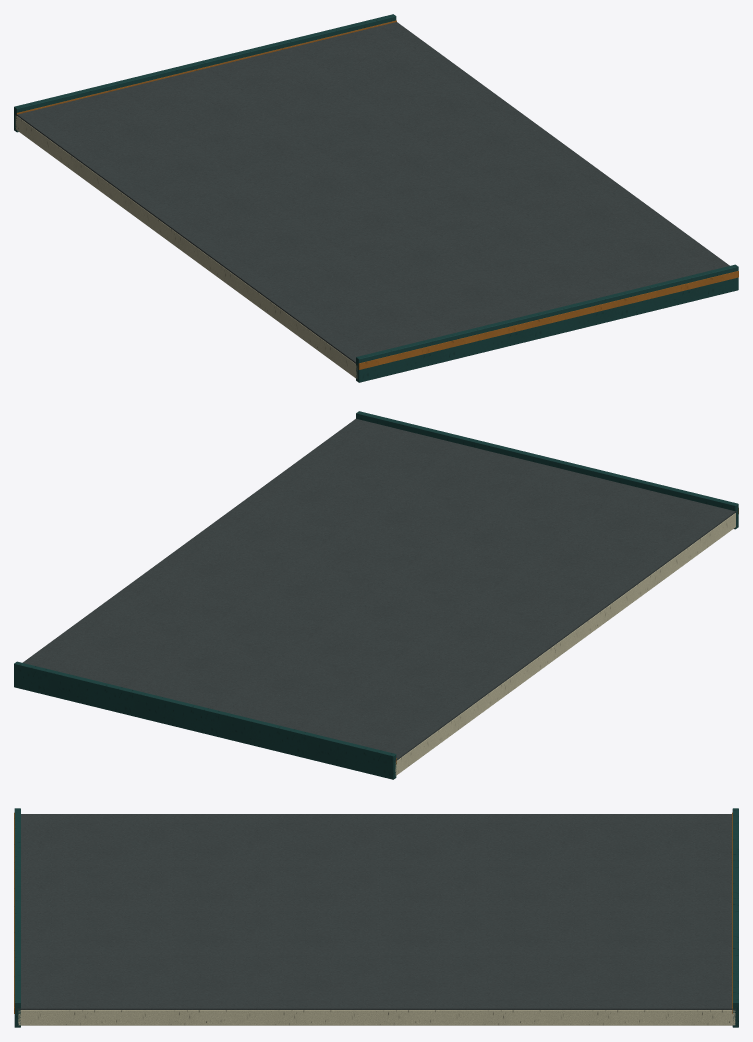
Rendered from flat_roof_4x6m_009_v3.glb.
3 views of the same model, one above another, from view 1: azimuth 30°, elevation 25°; view 2: azimuth 150°, elevation 25°; view 3: azimuth 270°, elevation 25° (orthographic). The views are drawn at different scales.
Parts seen in each view (by area): view 1: INSTANCE__flat_roof_4x6m__009; view 2: INSTANCE__flat_roof_4x6m__009; view 3: INSTANCE__flat_roof_4x6m__009.
Boxes of the visible parts, x1=… form: INSTANCE__flat_roof_4x6m__009: x1=14, y1=14, x2=738, y2=382; INSTANCE__flat_roof_4x6m__009: x1=14, y1=411, x2=738, y2=779; INSTANCE__flat_roof_4x6m__009: x1=14, y1=808, x2=738, y2=1027.
Bounding box in the file's own units: 4 × 0.24 × 6.3.
5 materials, 5 textured.
